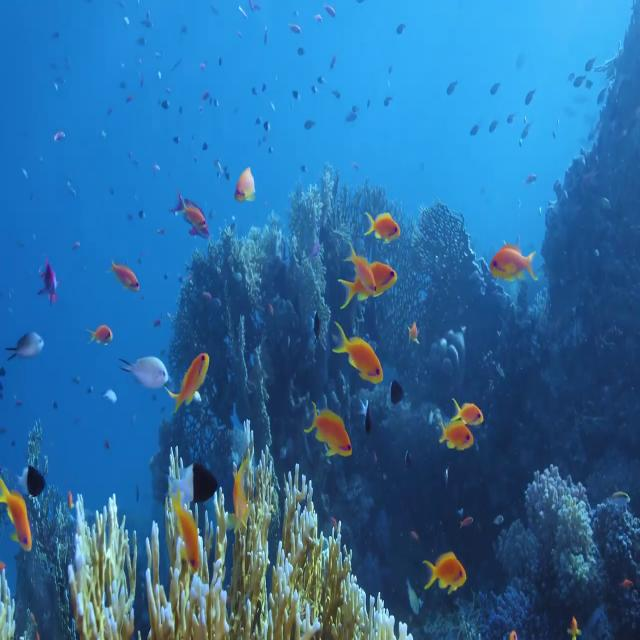fish: (334, 322, 385, 388), (114, 350, 175, 396), (339, 262, 398, 306), (172, 351, 210, 412), (308, 404, 354, 454), (424, 549, 468, 601), (170, 189, 213, 238), (490, 245, 540, 284), (343, 245, 376, 294), (449, 398, 484, 432), (364, 214, 401, 244), (438, 422, 476, 450)
